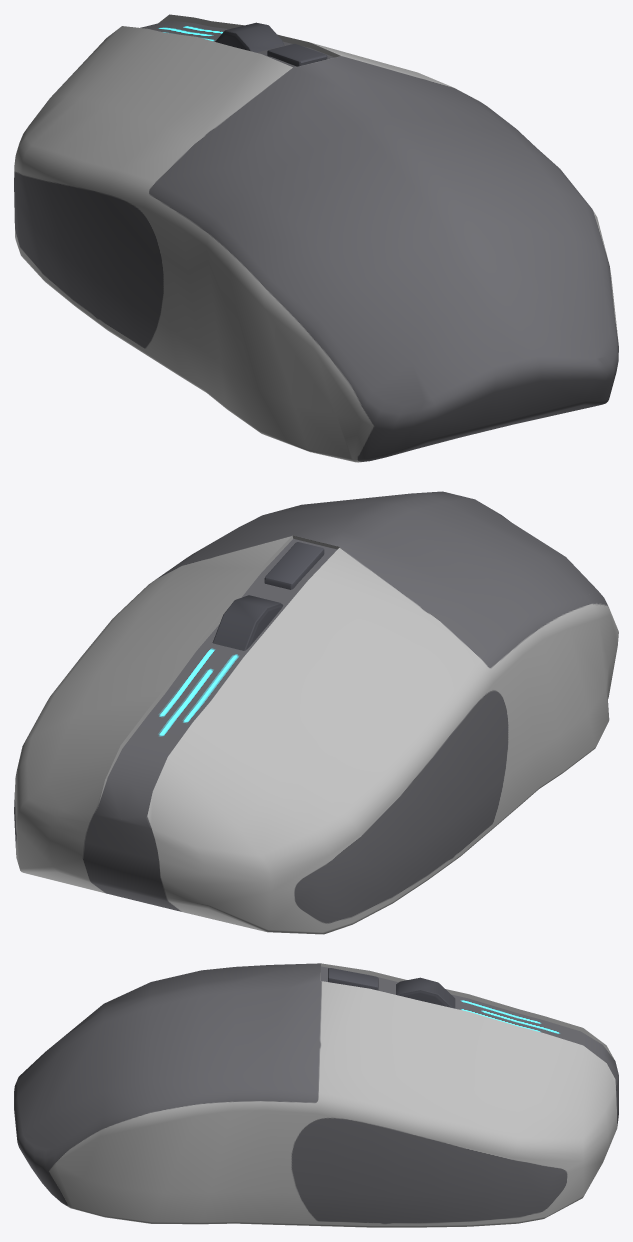
File: Med_PC_Mouse.glb
3 renders of one model, top to bottom at view 1: azimuth 30°, elevation 25°; view 2: azimuth 150°, elevation 25°; view 3: azimuth 270°, elevation 25°, orthographic. The views are drawn at different scales.
Visible parts, largest first — view 1: SM_Med_PC_Mouse; view 2: SM_Med_PC_Mouse; view 3: SM_Med_PC_Mouse.
Part boxes in pixels (x1,y1,x2,y2): SM_Med_PC_Mouse: (14,14,618,462); SM_Med_PC_Mouse: (14,491,618,934); SM_Med_PC_Mouse: (14,963,618,1227).
Size of the model in its own units: 0.0619 by 0.0415 by 0.1189.
Materials: 1 (1 with a texture image).
